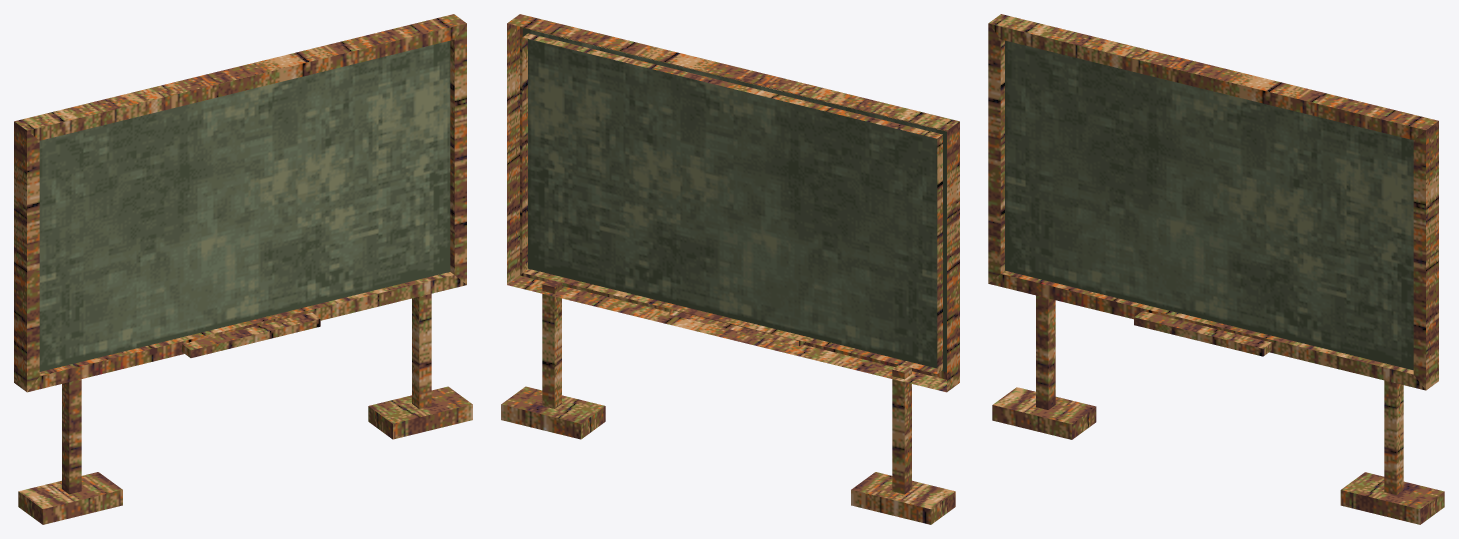
File: Pizarra_LGJ2026.fbx
3 views of the same model, side by side, from view 1: azimuth 30°, elevation 25°; view 2: azimuth 150°, elevation 25°; view 3: azimuth 330°, elevation 25° (orthographic).
Parts seen in each view (by area): view 1: Pizarra; view 2: Pizarra; view 3: Pizarra.
Boxes of the visible parts, x1,y1,x2,y2 form: Pizarra: (14,14,472,524); Pizarra: (501,14,959,524); Pizarra: (988,14,1444,524).
Size of the model in its own units: 1.76 by 1.5 by 0.19.
